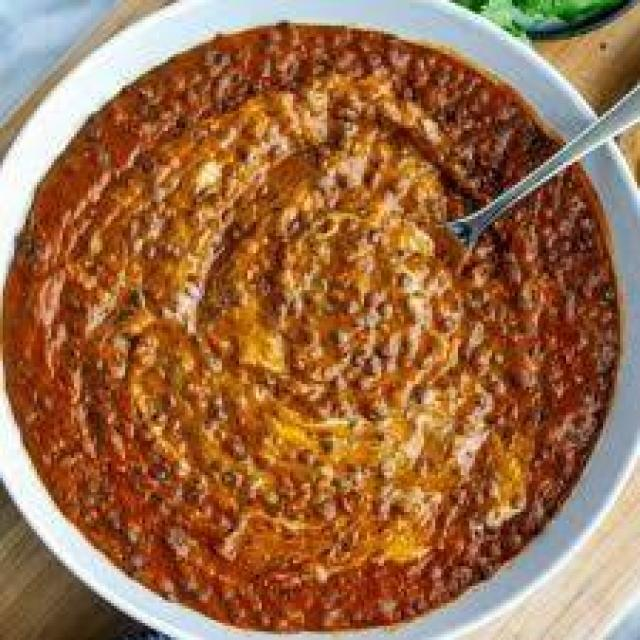dal_makhani: (7, 28, 639, 640)
